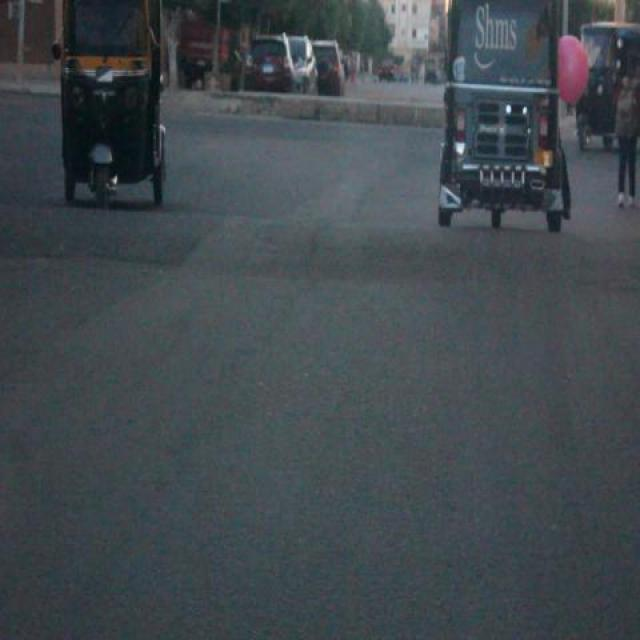Unmarked Bump: (0, 201, 637, 291)
